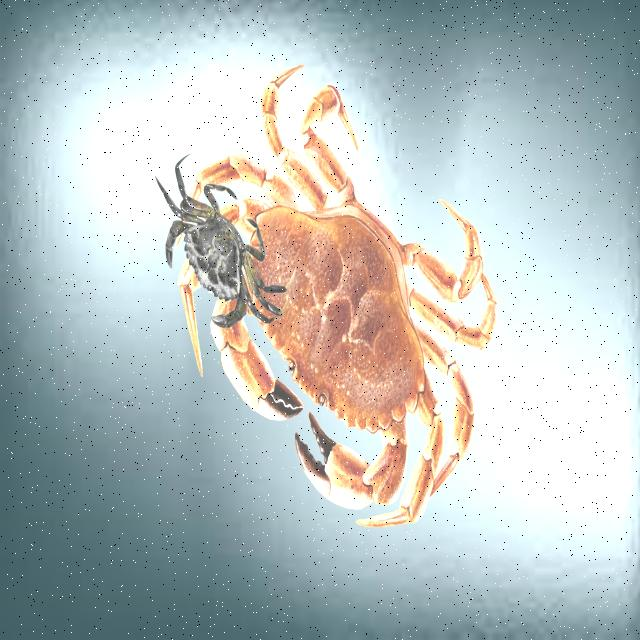European_Green_Crab: (134, 133, 302, 365)
